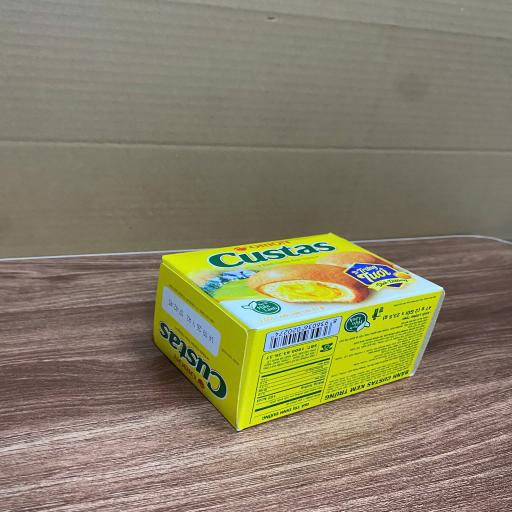custas: (152, 232, 446, 431)
